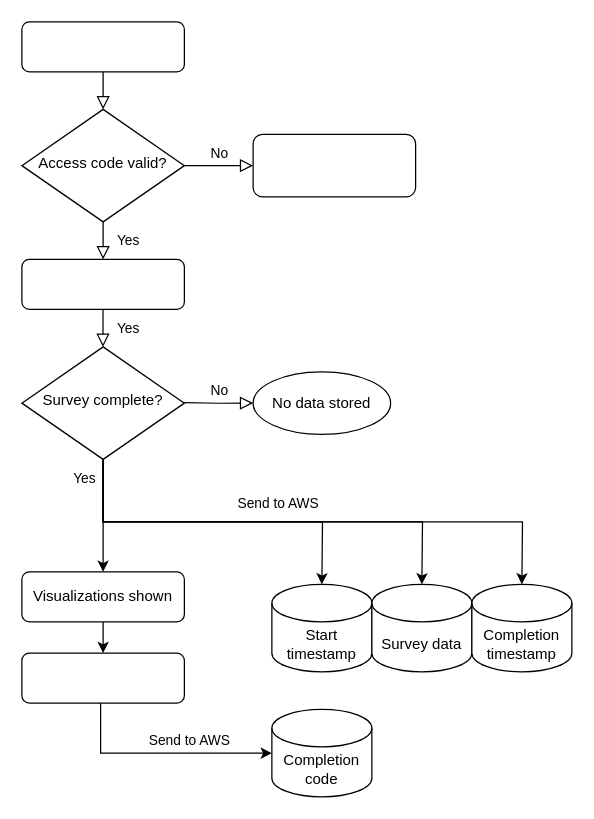
This 594x819 diagram has some shape labels left out. The centre of each missing label's shape, as x and y in pixels:
"Completion/Redirect display page" belongs at pixel 334 165.
"Participant enters access code" belongs at pixel 102 46.
"Participant enters completion code" belongs at pixel 102 677.
"Participant fills out survey" belongs at pixel 102 283.
